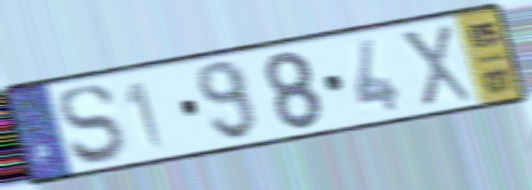1: (124, 78, 166, 152)
4: (353, 35, 404, 116)
8: (262, 48, 326, 132)
9: (194, 58, 261, 145)
S: (55, 81, 128, 169)
X: (396, 22, 476, 111)
